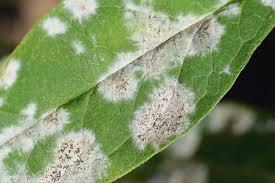powdery_mildew: (0, 0, 274, 181)
